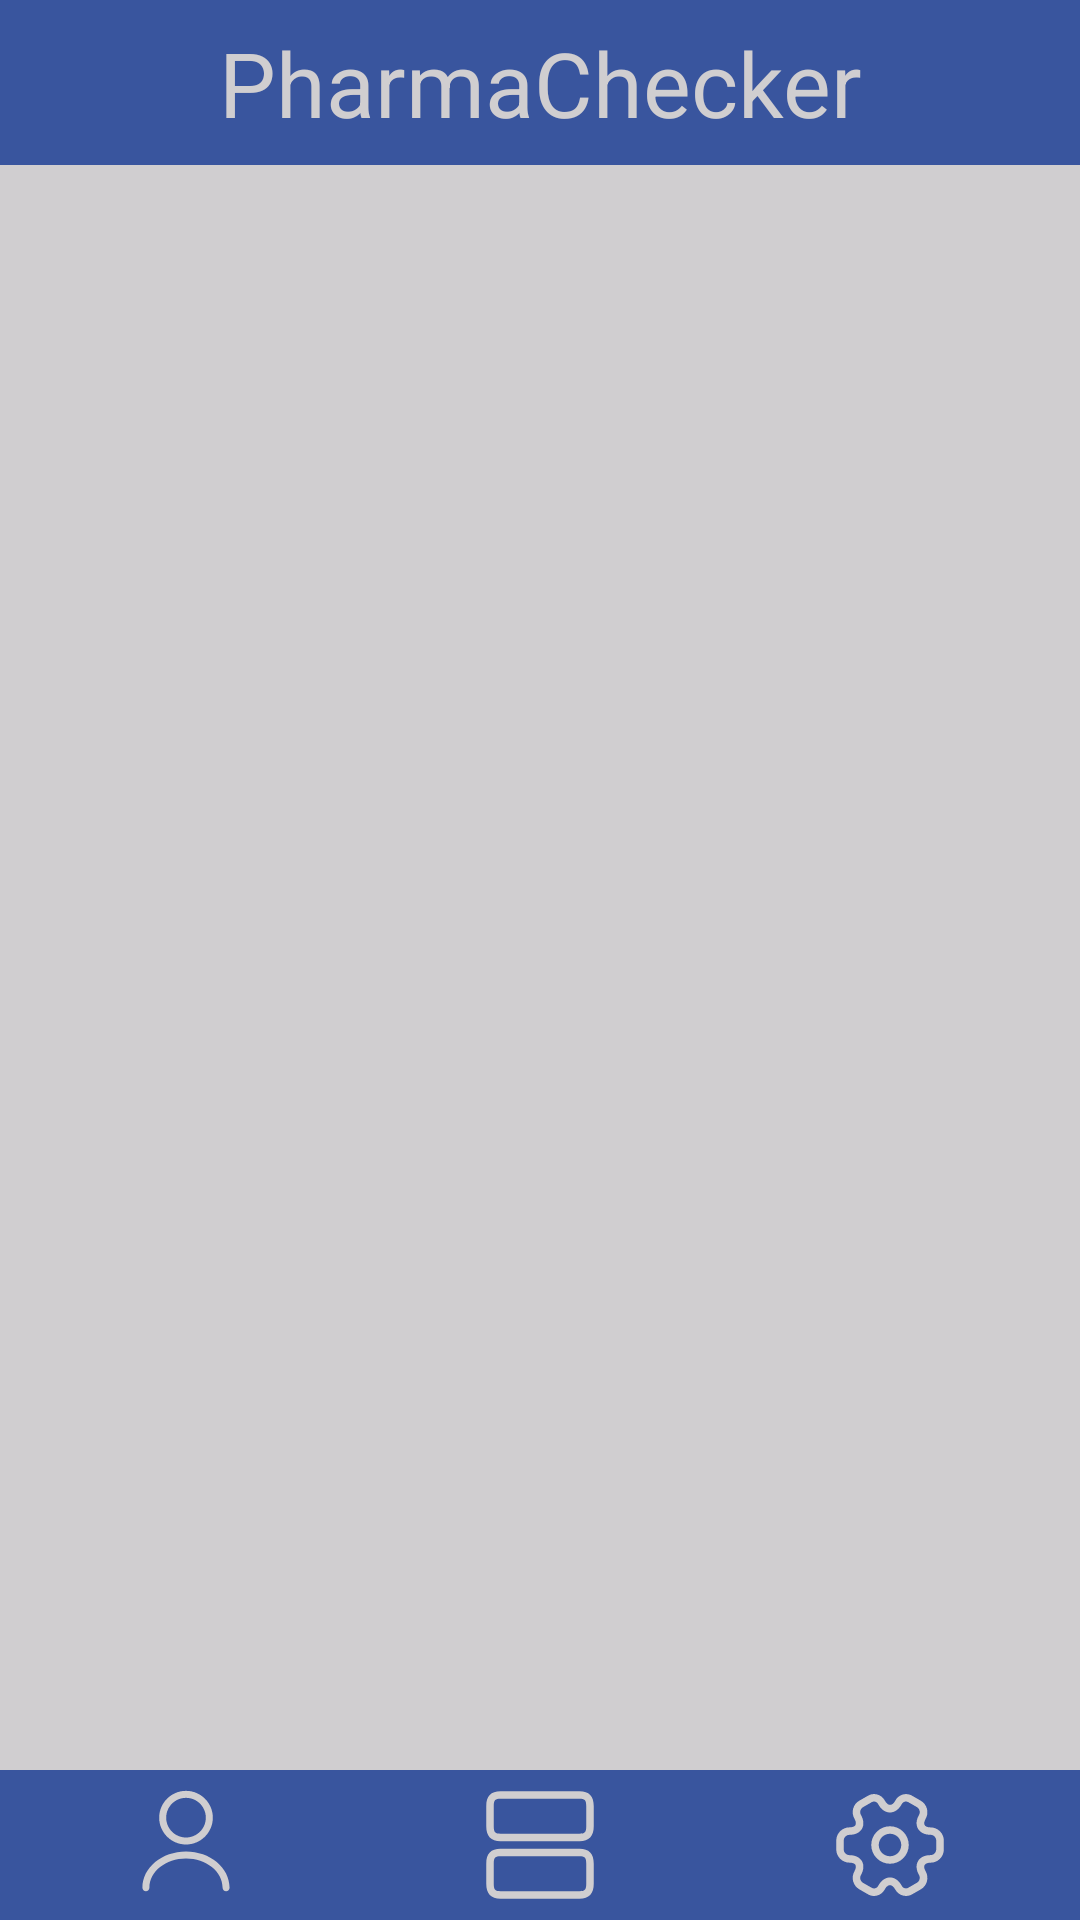

Icons on this 1080*1920 Android screen, each with its box as (left=x1, top=y1, right=x2, bottom=y2):
catalog: (left=486, top=1791, right=594, bottom=1899)
profile: (left=142, top=1790, right=230, bottom=1892)
settings: (left=836, top=1794, right=944, bottom=1896)
